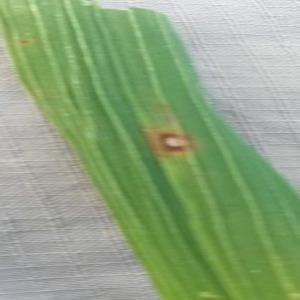0 BrownSpot: (147, 123, 202, 160), (16, 36, 35, 50)
